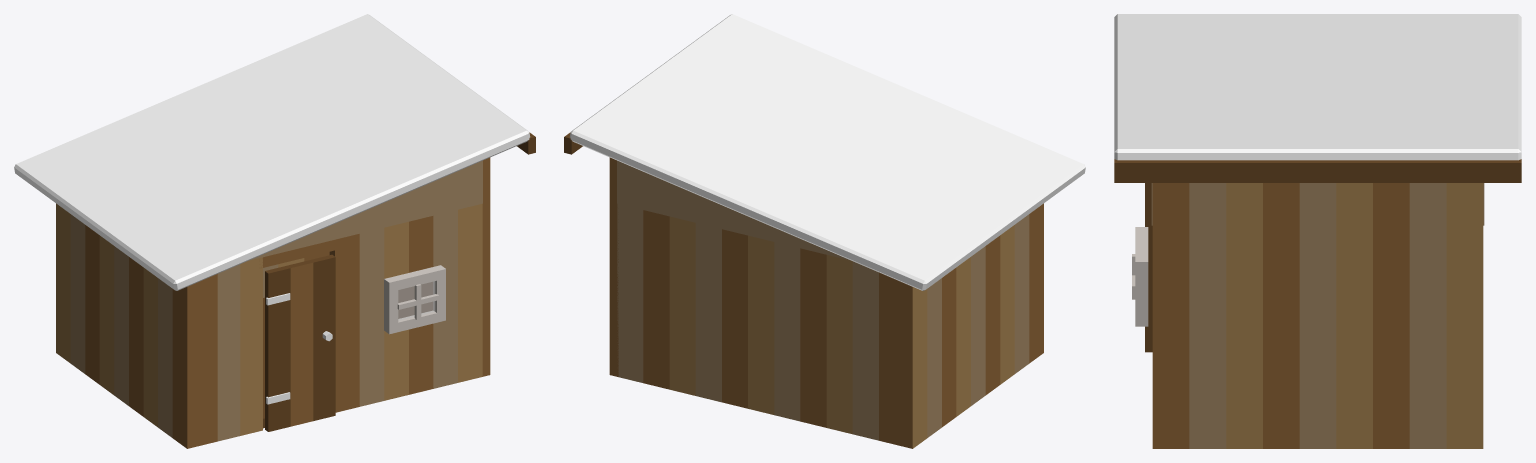
The model's file is shed.glb.
The picture shows the model from 3 angles, left to right: view 1: azimuth 30°, elevation 25°; view 2: azimuth 150°, elevation 25°; view 3: azimuth 270°, elevation 25°; orthographic projection. The views are drawn at different scales.
Visible parts, largest first — view 1: Shed; view 2: Shed; view 3: Shed.
Boxes of the visible parts, box(x1,y1,x2,y2) form: Shed: box(14, 14, 535, 448); Shed: box(564, 14, 1085, 448); Shed: box(1114, 14, 1521, 448).
Bounding box in the file's own units: 4.77 × 3.14 × 3.7.
